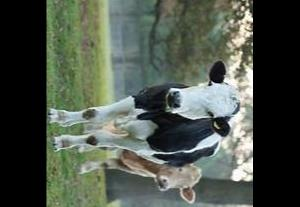cow: (48, 58, 241, 166), (76, 120, 204, 204)
